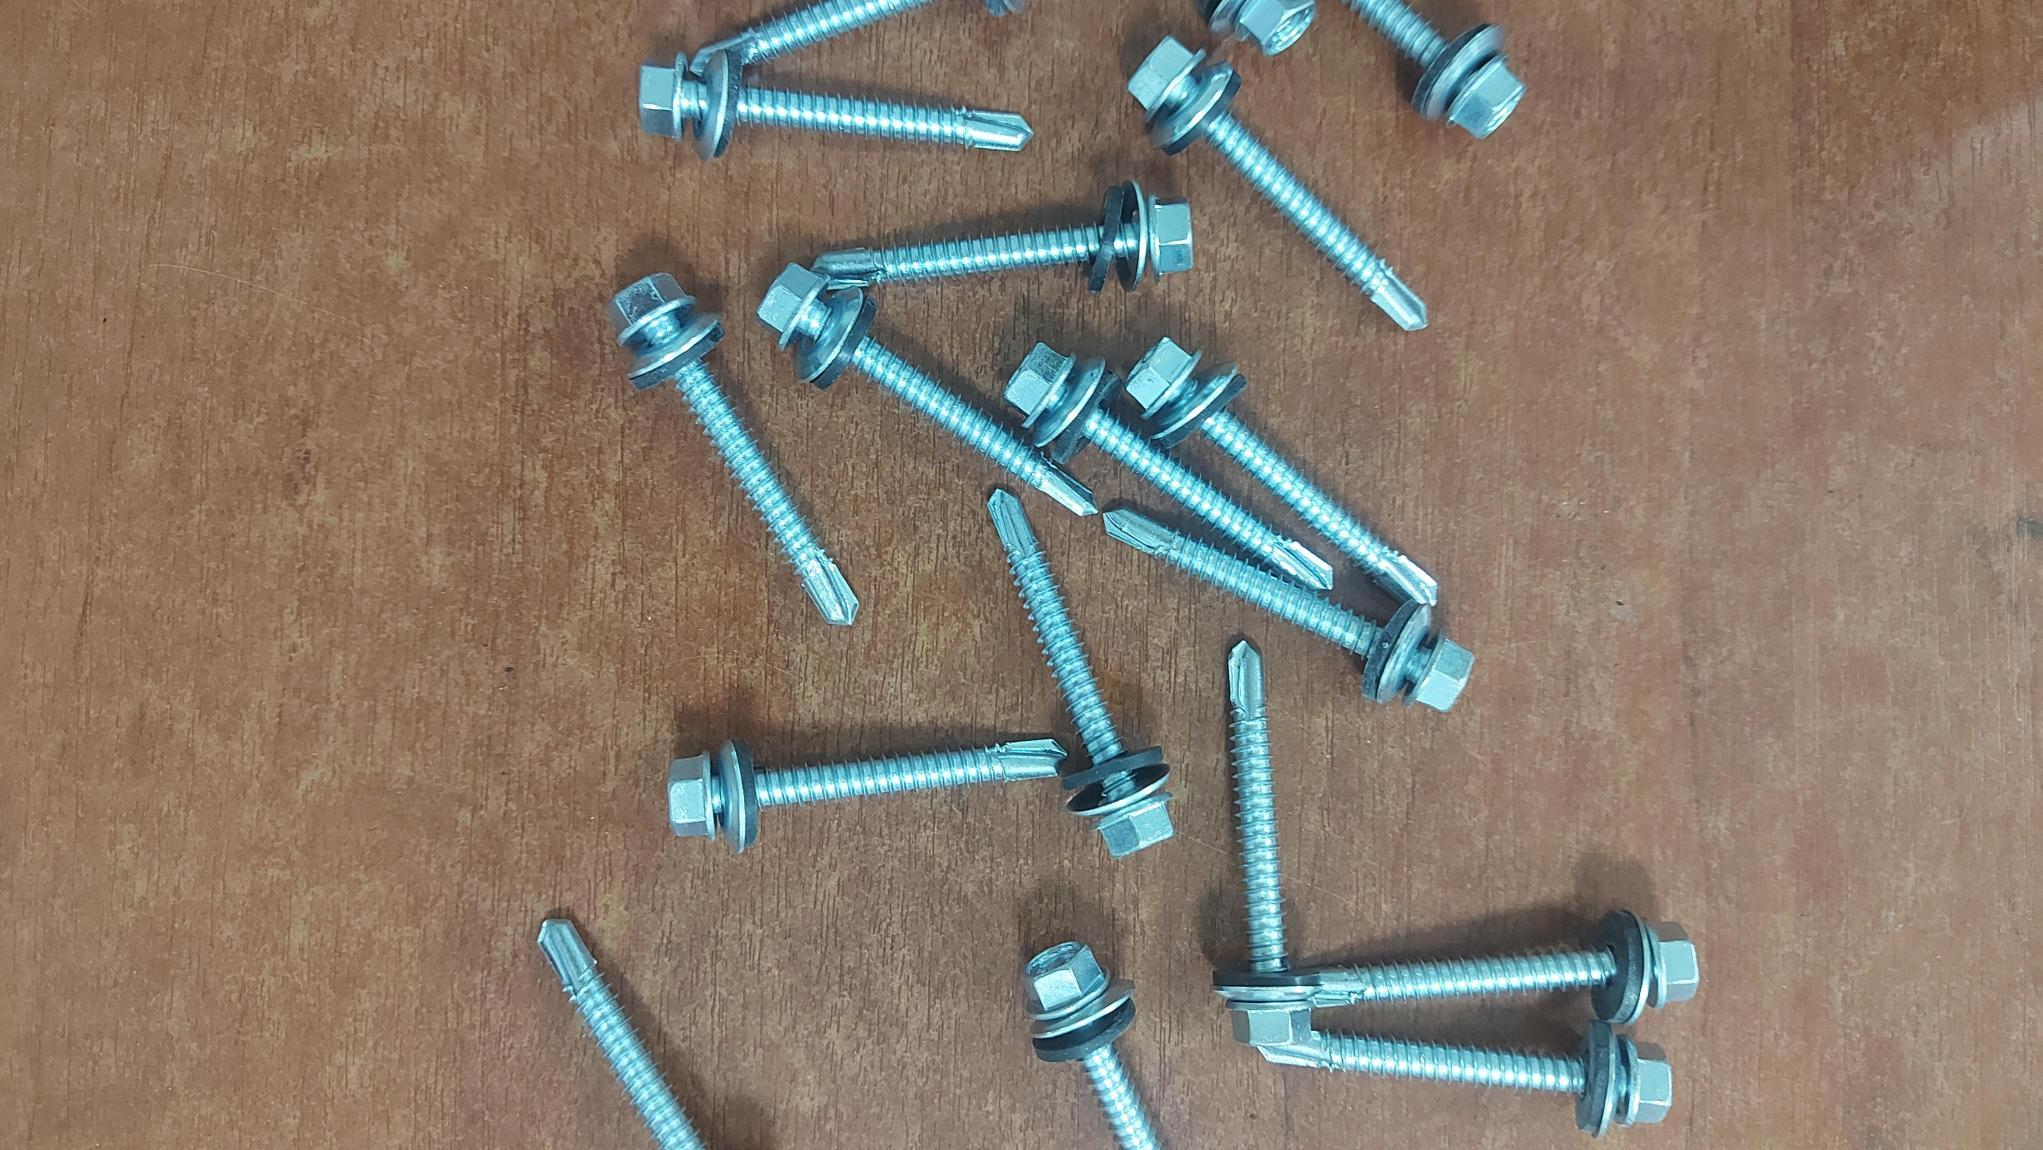Screw: (1127, 36, 1426, 330), (609, 273, 857, 625), (756, 265, 1096, 515), (1125, 338, 1437, 604), (1005, 344, 1332, 588), (1101, 509, 1472, 711), (988, 489, 1173, 857), (1259, 1022, 1673, 1135), (1299, 912, 1699, 1024), (667, 739, 1064, 850), (638, 53, 1031, 158), (812, 182, 1193, 290), (537, 919, 703, 1149), (1024, 942, 1159, 1149), (1226, 640, 1288, 975), (690, 0, 930, 67), (1214, 972, 1311, 1046), (1203, 0, 1313, 55)
